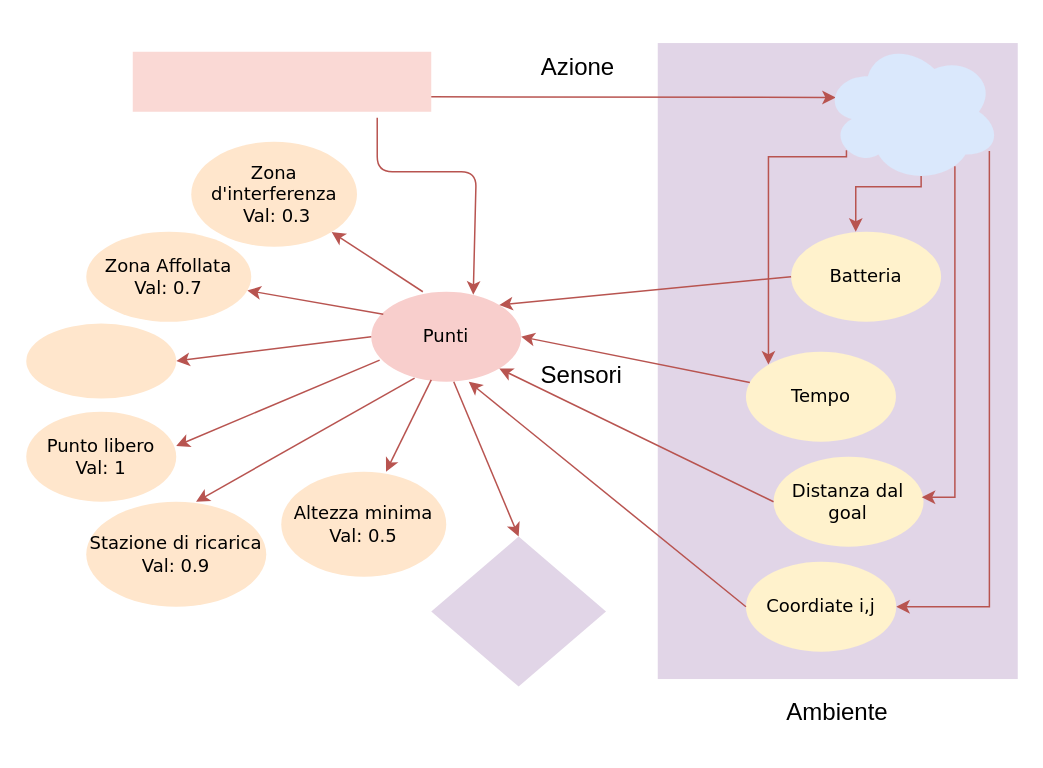
Image size: 1043x768. Some labels were removed from this diagram. The centre of each missing label's shape, as x and y in pixels:
Conoscenza, percorso effettuato: [911,111]
Muro Val: 0: [101,360]
Punto da scegliere: [281,81]
Utilità: [517,611]
